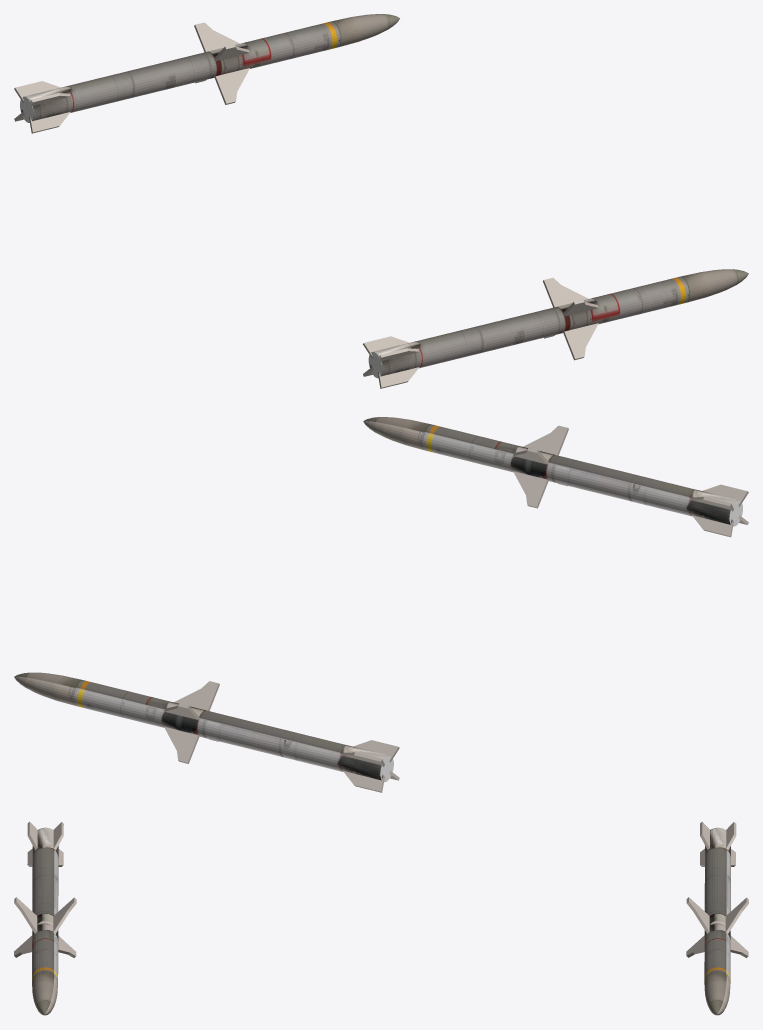
File: fa18fagm8825.glb
3 renders of one model, top to bottom at view 1: azimuth 30°, elevation 25°; view 2: azimuth 150°, elevation 25°; view 3: azimuth 270°, elevation 25°, orthographic. The views are drawn at different scales.
Parts seen in each view (by area): view 1: 円柱.002, 円柱.006; view 2: 円柱.006, 円柱.002; view 3: 円柱.002, 円柱.006.
Boxes of the visible parts, x1=… form: 円柱.002: x1=363, y1=269, x2=748, y2=388; 円柱.006: x1=14, y1=14, x2=399, y2=133; 円柱.006: x1=14, y1=672, x2=399, y2=792; 円柱.002: x1=363, y1=417, x2=748, y2=537; 円柱.002: x1=14, y1=821, x2=76, y2=1015; 円柱.006: x1=686, y1=821, x2=748, y2=1015.
Bounding box in the file's own units: 4.9 × 0.7319 × 8.6.
2 materials, 1 textured.
